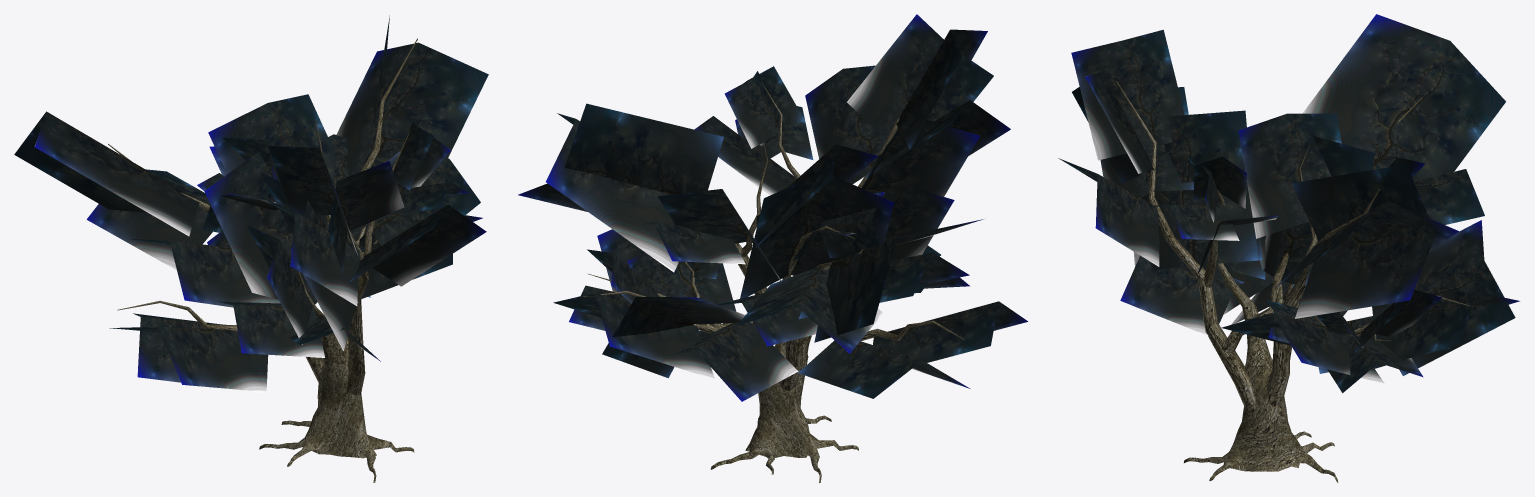
File: oak-winter-b.DAE
3 renders of one model, left to right at view 1: azimuth 30°, elevation 25°; view 2: azimuth 150°, elevation 25°; view 3: azimuth 270°, elevation 25°, orthographic. The views are drawn at different scales.
Parts seen in each view (by area): view 1: oak_winter_b; view 2: oak_winter_b; view 3: oak_winter_b.
Part boxes in pixels (<box>): oak_winter_b: <box>14,15,488,482</box>; oak_winter_b: <box>518,14,1027,482</box>; oak_winter_b: <box>1058,14,1519,482</box>.
Size of the model in its own units: 1632 by 1489 by 1351.
